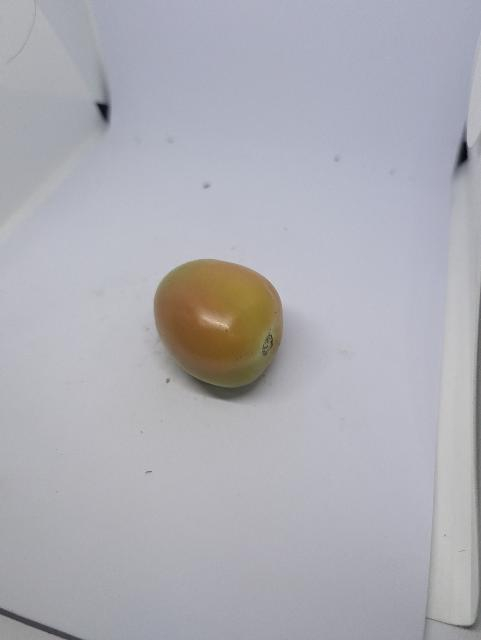turning: (154, 259, 283, 387)
